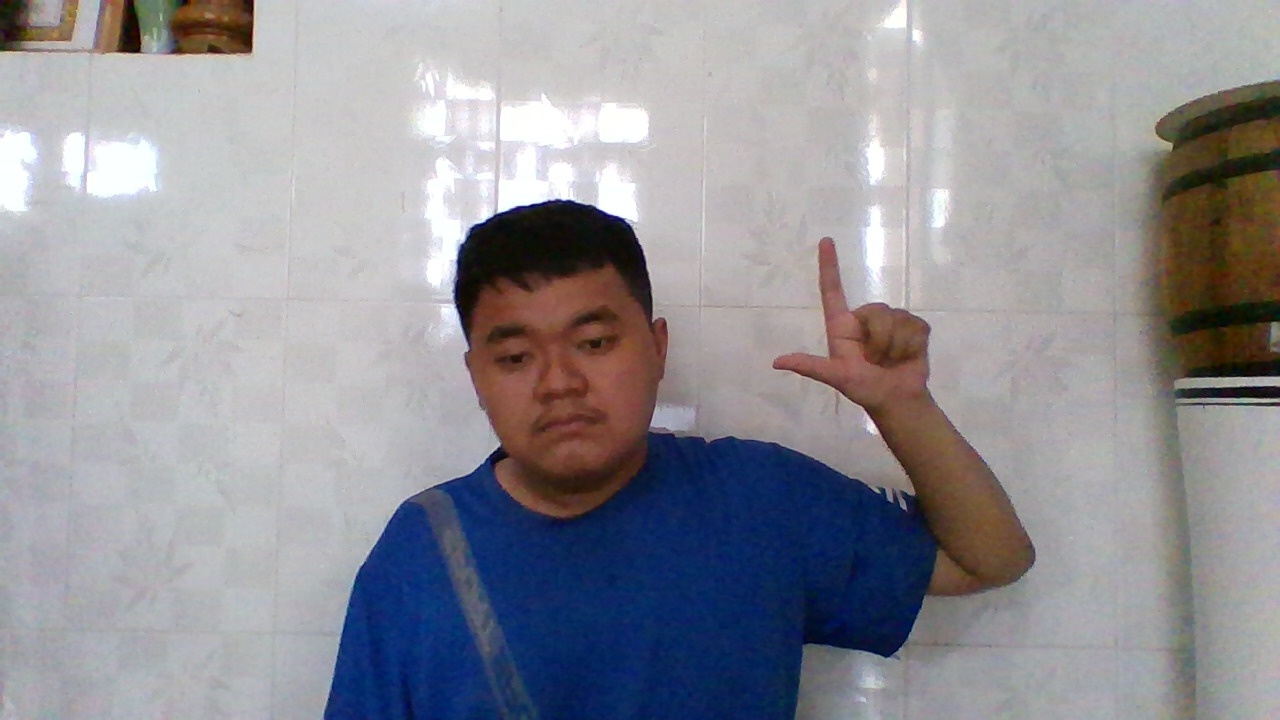L: (763, 227, 936, 416)
